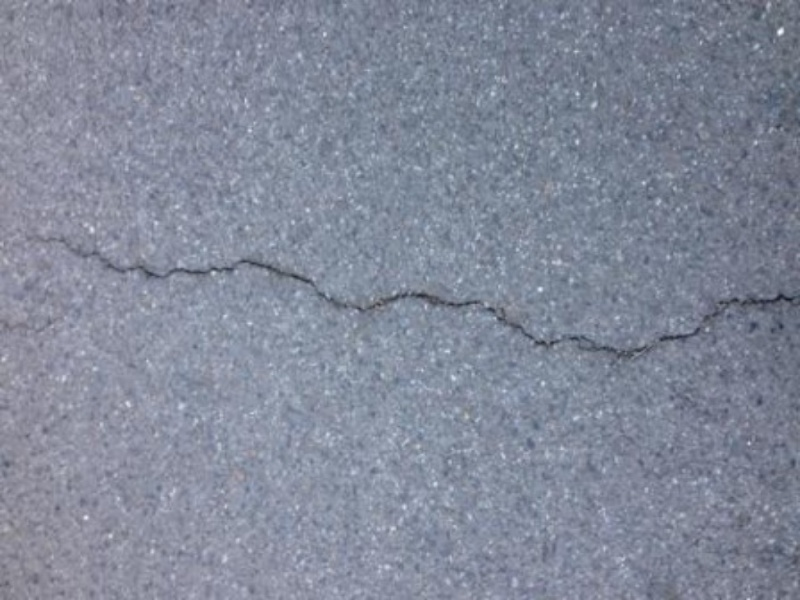crack: (15, 203, 792, 386)
